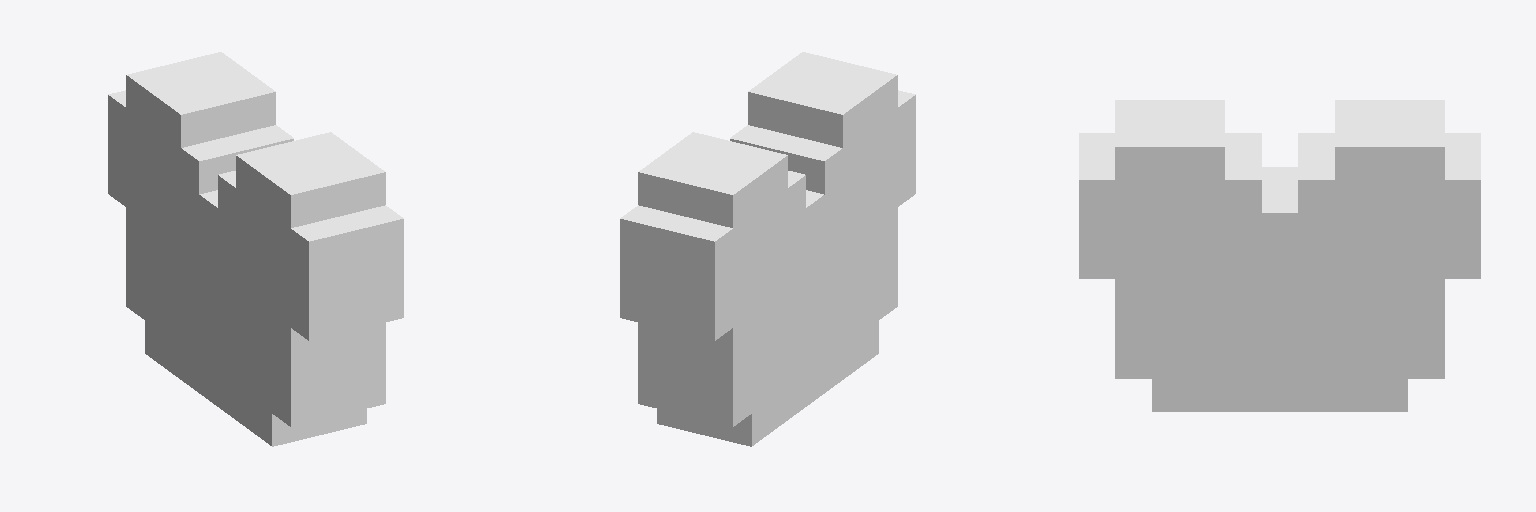
Rendered from Koala_ALL.obj.
3 renders of one model, left to right at view 1: azimuth 30°, elevation 25°; view 2: azimuth 150°, elevation 25°; view 3: azimuth 270°, elevation 25°, orthographic.
Visible parts, largest first — view 1: object 1; view 2: object 1; view 3: object 1.
Boxes of the visible parts, x1=… form: object 1: x1=108, y1=52, x2=403, y2=446; object 1: x1=620, y1=52, x2=915, y2=446; object 1: x1=1079, y1=100, x2=1480, y2=411.
Size of the model in its own units: 0.6 by 1.6 by 2.2.